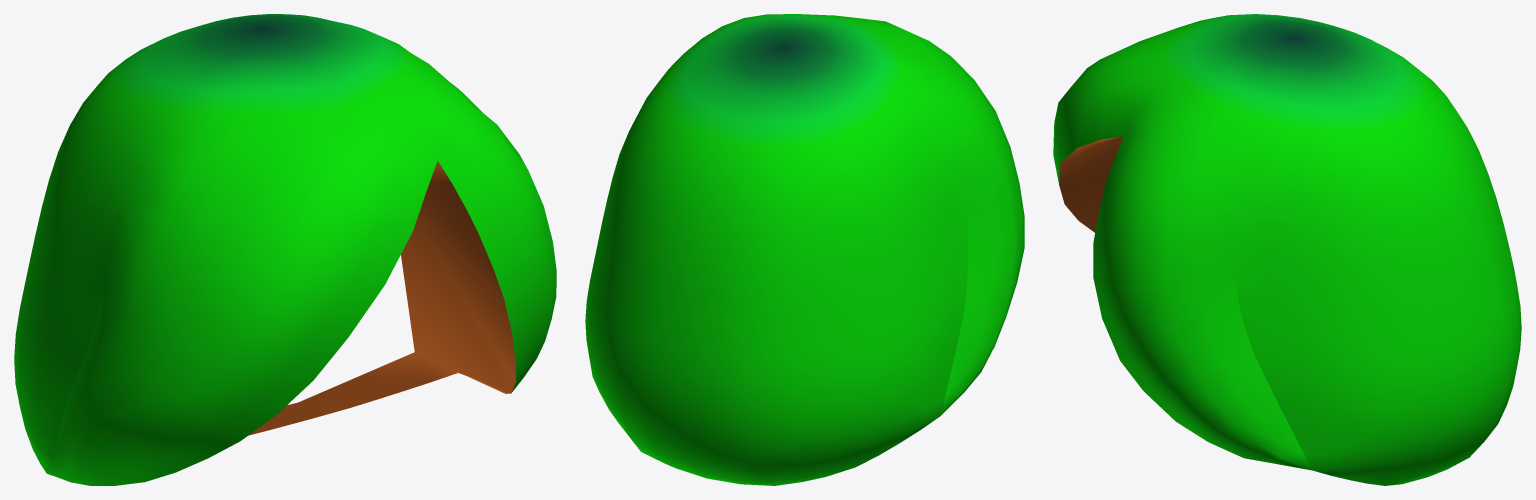
Rendered from Hair1_116.glb.
3 renders of one model, left to right at view 1: azimuth 30°, elevation 25°; view 2: azimuth 150°, elevation 25°; view 3: azimuth 270°, elevation 25°, orthographic. The views are drawn at different scales.
Bounding box in the file's own units: 66.11 × 66.69 × 68.3.
